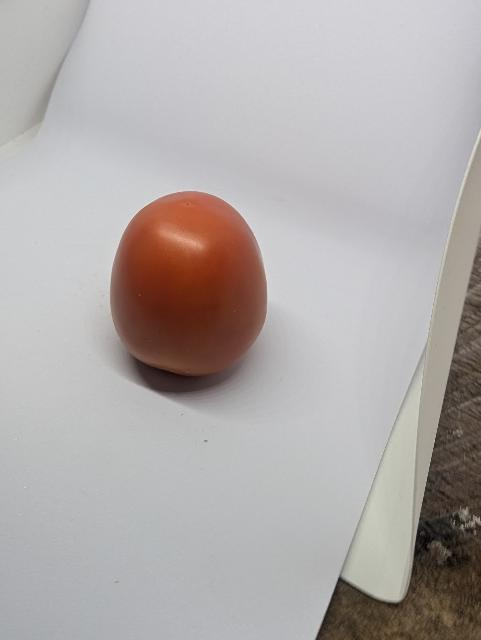red: (98, 183, 288, 389)
